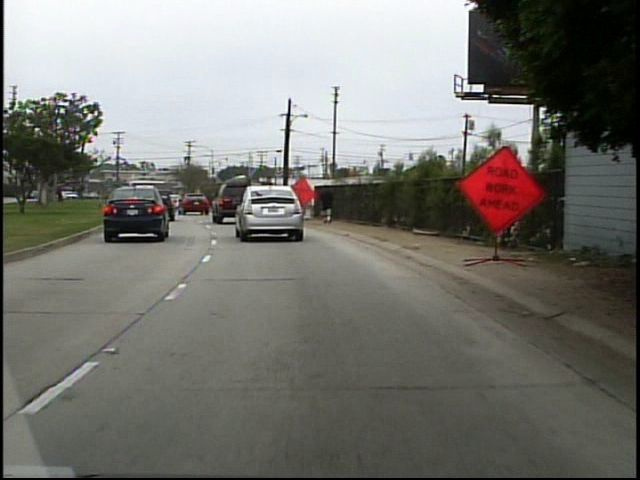person: (317, 183, 335, 225)
